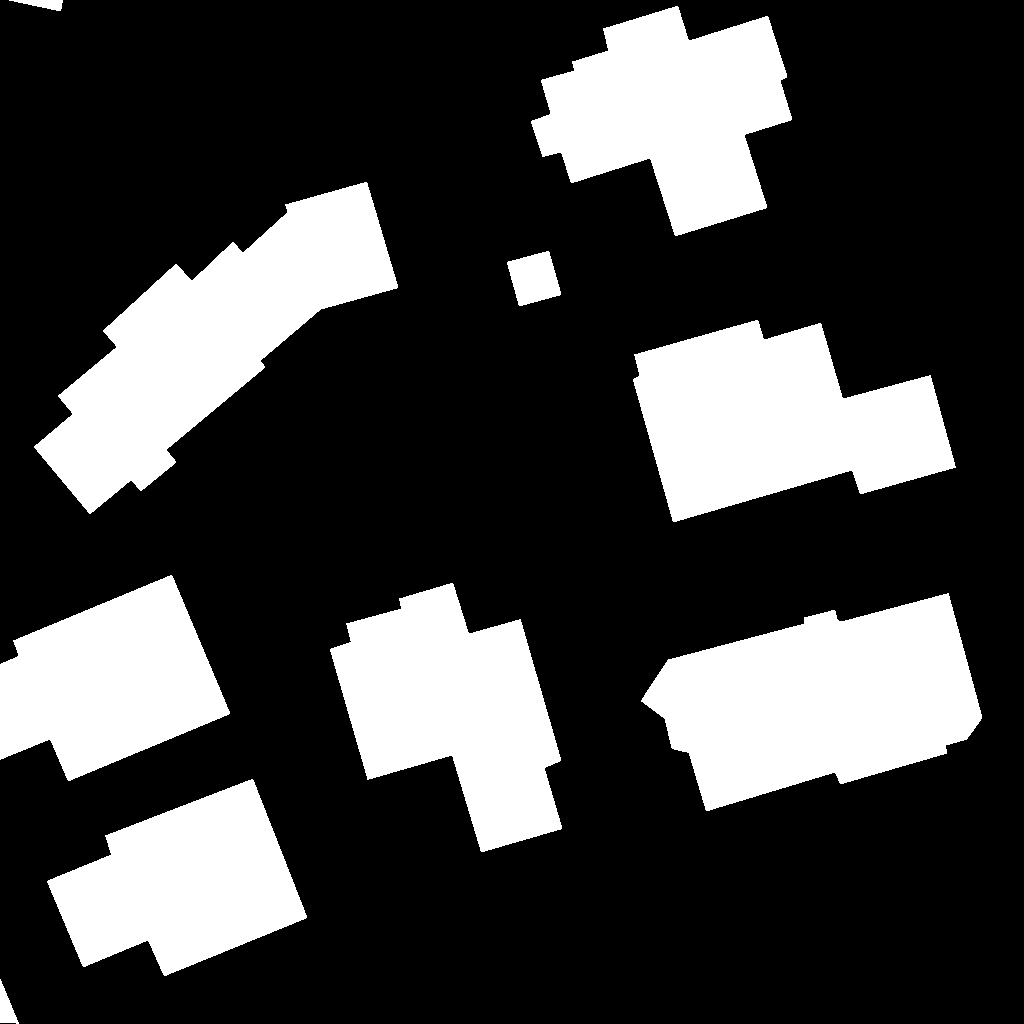building: (34, 182, 399, 515), (641, 593, 983, 812), (633, 320, 957, 523), (330, 583, 563, 853), (531, 6, 793, 237), (47, 779, 308, 977), (0, 575, 231, 782), (507, 251, 562, 307), (0, 978, 20, 1024), (7, 0, 64, 12)
